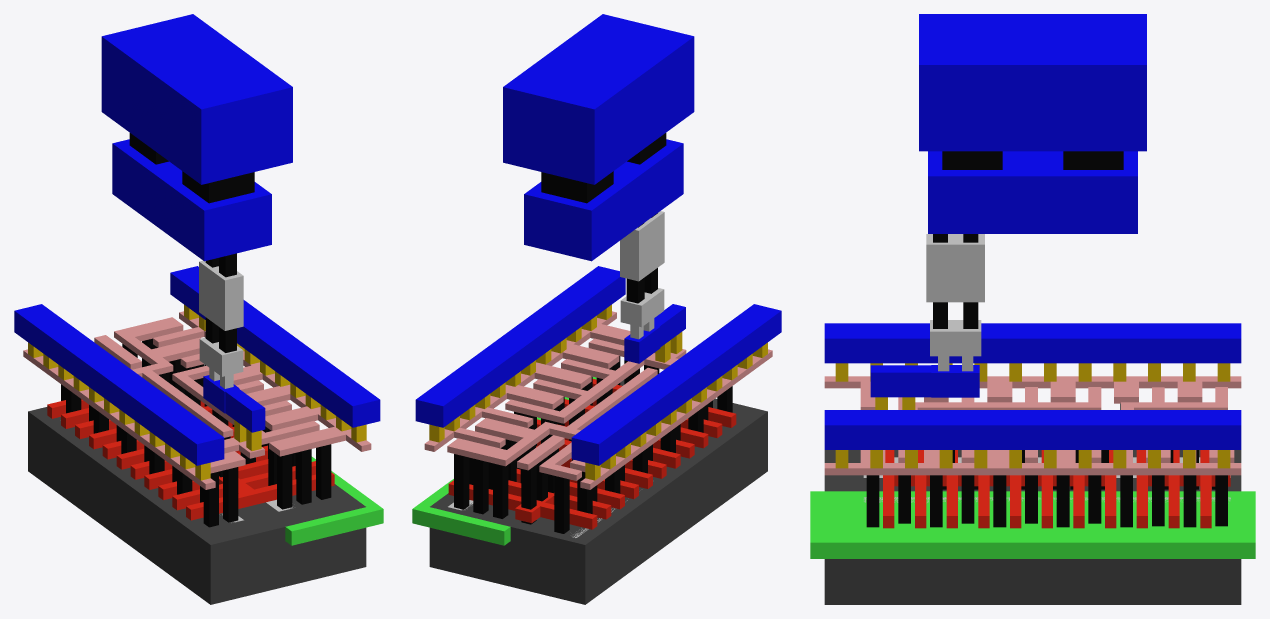
The model's file is sky130_fd_sc_hd__probe_p_8.obj.
The picture shows the model from 3 angles, left to right: view 1: azimuth 30°, elevation 25°; view 2: azimuth 150°, elevation 25°; view 3: azimuth 270°, elevation 25°; orthographic projection. The views are drawn at different scales.
Visible parts, largest first — view 1: subs, metal5, metal1, li, metal4, licon, poly, mcon, nwell, metal3, via4, metal2 (+1 smaller); view 2: metal5, subs, metal1, li, metal4, licon, poly, mcon, nwell, metal3, via4, metal2 (+1 smaller); view 3: metal1, metal5, subs, nwell, metal4, li, licon, poly, mcon, metal3, via4, metal2 (+1 smaller).
Part boxes in pixels (left/top/right/bottom): subs: left=28, top=407, right=366, bottom=604; metal5: left=101, top=14, right=292, bottom=184; metal1: left=14, top=266, right=380, bottom=465; li: left=23, top=311, right=371, bottom=489; metal4: left=112, top=139, right=271, bottom=261; licon: left=61, top=338, right=331, bottom=527; poly: left=47, top=399, right=334, bottom=520; mcon: left=28, top=304, right=366, bottom=480; nwell: left=285, top=456, right=383, bottom=545; metal3: left=199, top=260, right=243, bottom=330; via4: left=129, top=133, right=254, bottom=203; metal2: left=199, top=337, right=243, bottom=376; metal5: left=503, top=14, right=694, bottom=184; subs: left=429, top=380, right=767, bottom=604; metal1: left=415, top=266, right=781, bottom=465; li: left=424, top=311, right=772, bottom=489; metal4: left=524, top=139, right=683, bottom=261; licon: left=454, top=356, right=732, bottom=533; poly: left=448, top=379, right=736, bottom=529; mcon: left=429, top=304, right=767, bottom=480; nwell: left=412, top=377, right=596, bottom=545; metal3: left=620, top=211, right=664, bottom=281; via4: left=541, top=133, right=666, bottom=203; metal2: left=620, top=288, right=664, bottom=327; metal1: left=824, top=323, right=1241, bottom=449; metal5: left=919, top=14, right=1146, bottom=151; subs: left=824, top=450, right=1241, bottom=604; nwell: left=810, top=491, right=1255, bottom=558; metal4: left=928, top=151, right=1137, bottom=233; li: left=824, top=376, right=1241, bottom=475; licon: left=866, top=403, right=1227, bottom=527; poly: left=883, top=450, right=1230, bottom=528; mcon: left=835, top=363, right=1230, bottom=468; metal3: left=926, top=234, right=984, bottom=302; via4: left=942, top=151, right=1123, bottom=169; metal2: left=930, top=320, right=981, bottom=356.
Bounding box in the file's own units: 3.2 × 7.63 × 5.9.
